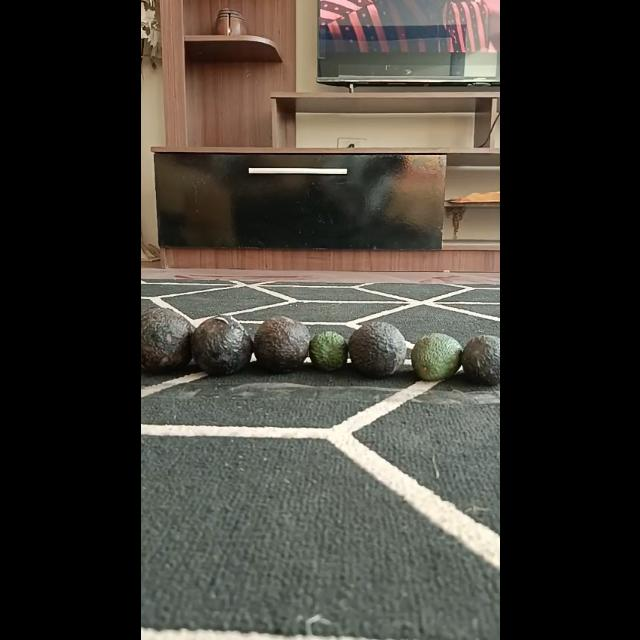Primera: (190, 315, 252, 375), (141, 306, 195, 372), (252, 316, 310, 372), (348, 321, 406, 377)
Segunda: (410, 332, 462, 382), (459, 334, 498, 386)
Tercera: (308, 331, 348, 371)
